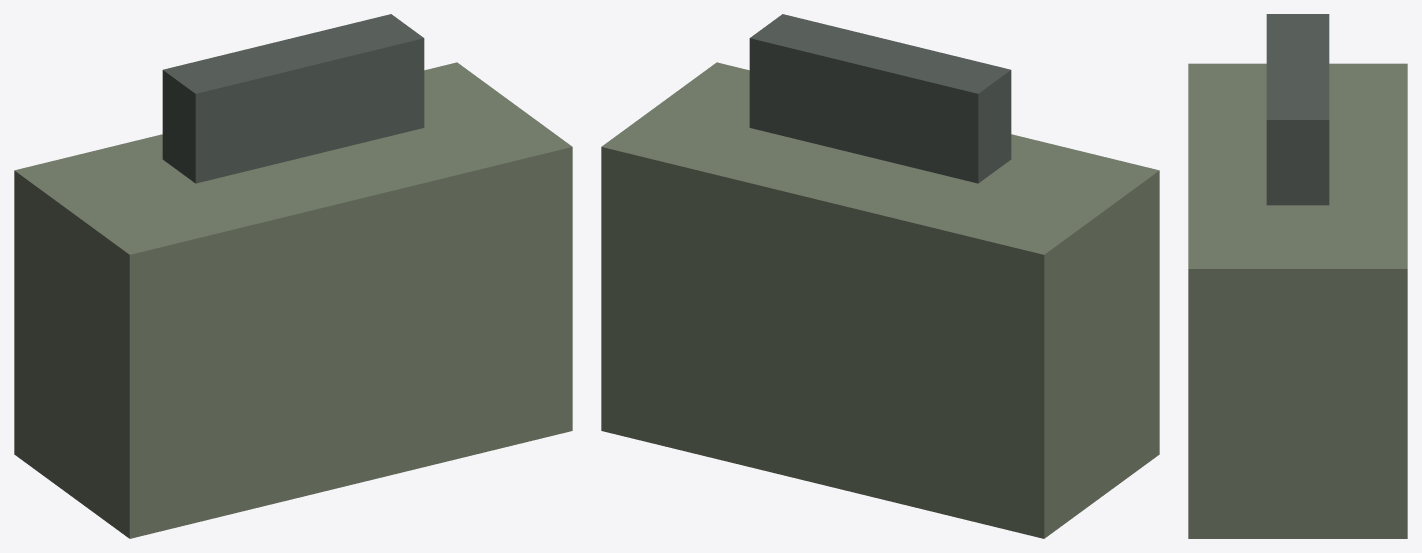
Rendered from ammo_can.glb.
3 views of the same model, side by side, from view 1: azimuth 30°, elevation 25°; view 2: azimuth 150°, elevation 25°; view 3: azimuth 270°, elevation 25° (orthographic). The views are drawn at different scales.
Visible parts, largest first — view 1: can_0, handle_1; view 2: can_0, handle_1; view 3: can_0, handle_1.
Boxes of the visible parts, box(x1,y1,x2,y2) form: can_0: box(14, 62, 572, 538); handle_1: box(162, 14, 424, 183); can_0: box(601, 62, 1159, 538); handle_1: box(749, 14, 1011, 183); can_0: box(1188, 63, 1407, 538); handle_1: box(1266, 14, 1329, 205).
Bounding box in the file's own units: 0.62 × 0.52 × 0.28.
